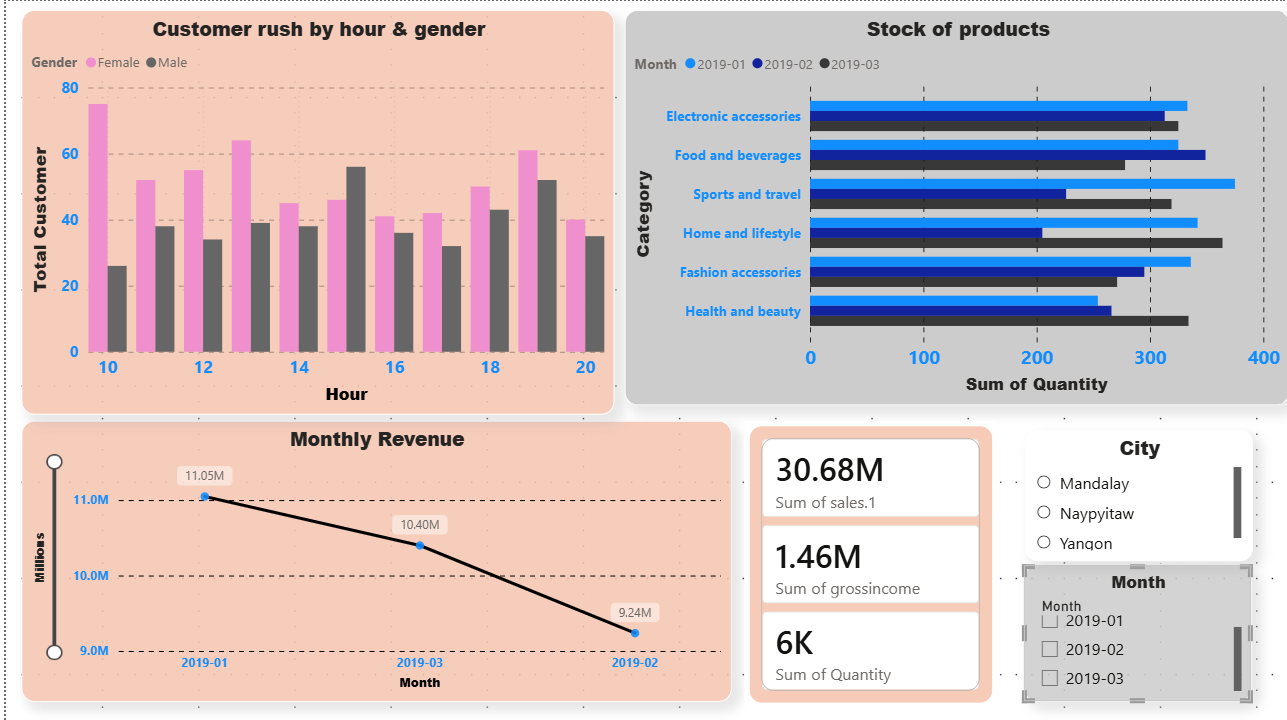

Layout of this report page (visuals, bound fields, positions):
{"tool":"powerbi","page":{"name":"Page 1","canvas":[1280,720],"ordinal":0},"visuals":[{"type":"slicer","title":"Month","fields":{"Values":["sales.Month"]},"box":[1014.5,562.3,226.7,136],"z":0},{"type":"lineChart","title":"Monthly Revenue ","fields":{"Category":["sales.Month"],"Y":["Sum(sales.sales.1)"]},"box":[15.5,418.5,707.5,279.9],"z":1000},{"type":"clusteredColumnChart","title":"Customer rush by hour & gender","fields":{"Category":["sales.Hour"],"Y":["CountNonNull(sales.Invoice ID)"],"Series":["sales.Gender"]},"box":[15.5,9.1,590.8,403],"z":2000},{"type":"clusteredBarChart","title":"Stock of products","fields":{"Category":["sales.Product line"],"Y":["Sum(sales.Quantity)"],"Series":["sales.Month"]},"box":[616.8,9.1,663.4,393.9],"z":3000},{"type":"cardVisual","fields":{"Data":["Sum(sales.sales.1)","Sum(sales.grossincome)","Sum(sales.Quantity)"]},"box":[736,418.5,252.7,286.3],"z":4000},{"type":"listSlicer","fields":{"Values":["sales.City"]},"box":[1015.8,427.6,226.7,130.9],"z":5000}]}

Visuals, with their boxes in screenshot pixels (x1, y1, x2, y2), scaled from the page's 1280x720 canvas onto the 1287x720 screenshot:
"Month" slicer: [1020, 562, 1248, 698]
"Monthly Revenue " lineChart: [16, 418, 727, 698]
"Customer rush by hour & gender" clusteredColumnChart: [16, 9, 610, 412]
"Stock of products" clusteredBarChart: [620, 9, 1286, 403]
cardVisual - Sum(sales.sales.1) x Sum(sales.grossincome): [740, 418, 994, 705]
listSlicer - sales.City: [1021, 428, 1249, 558]
